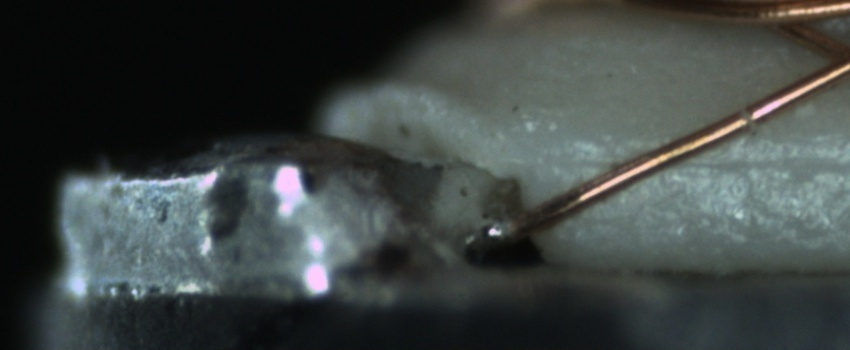CL: (803, 25, 849, 91)
DL: (566, 127, 847, 190)
